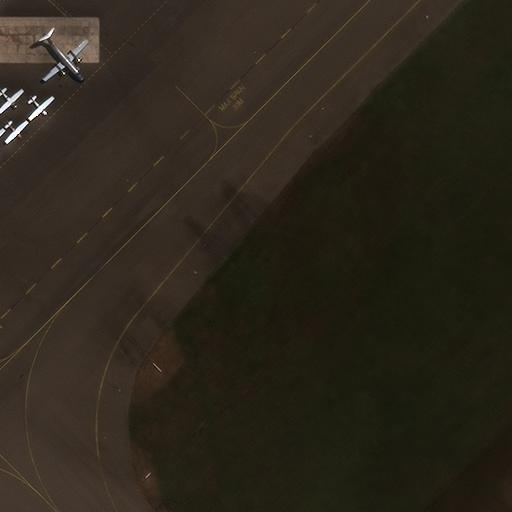Medium Civil Transport: (43, 34, 89, 82)
Small Civil Transport: (29, 97, 55, 121), (0, 89, 24, 114), (6, 122, 29, 144)
